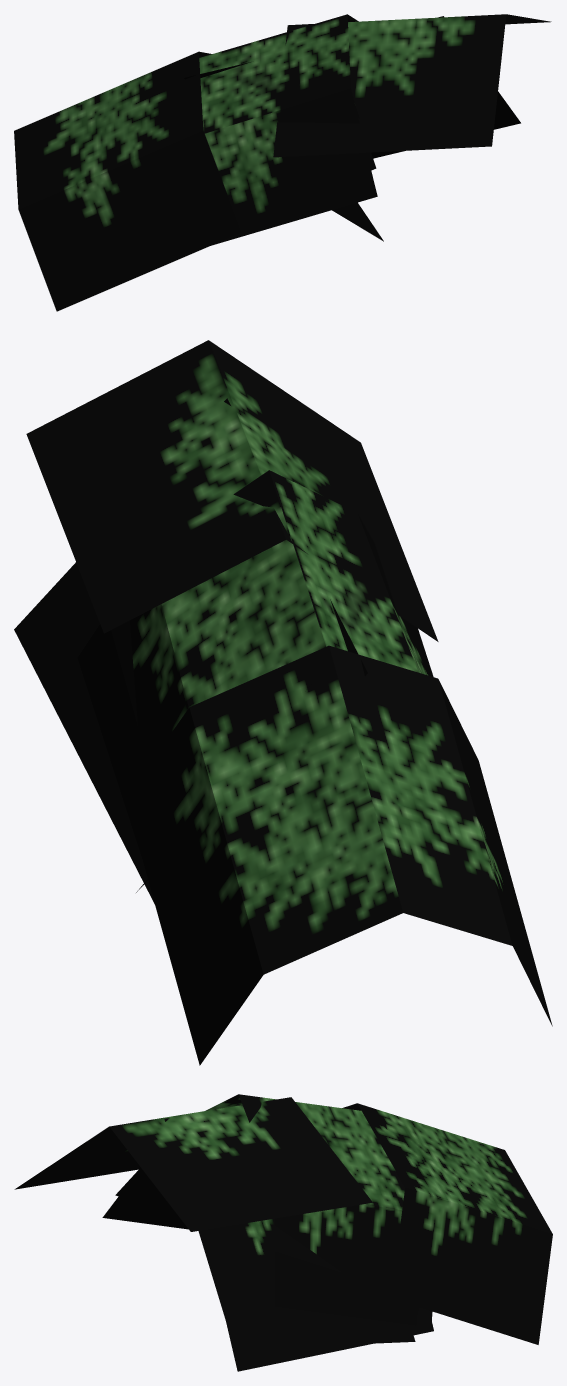
The model's file is spruce_leaves_4.obj.
The picture shows the model from 3 angles, top to bottom: view 1: azimuth 30°, elevation 25°; view 2: azimuth 150°, elevation 25°; view 3: azimuth 270°, elevation 25°; orthographic projection. The views are drawn at different scales.
Parts seen in each view (by area): view 1: plane, cube; view 2: plane, cube; view 3: plane, cube.
Part boxes in pixels (x1,y1,x2,y2): plane: (14, 14, 551, 311); cube: (184, 16, 520, 241); plane: (26, 340, 552, 1065); cube: (14, 398, 367, 904); plane: (14, 1094, 552, 1344); cube: (164, 1118, 433, 1371).
Size of the model in its own units: 3.2 by 2.1 by 3.18.
